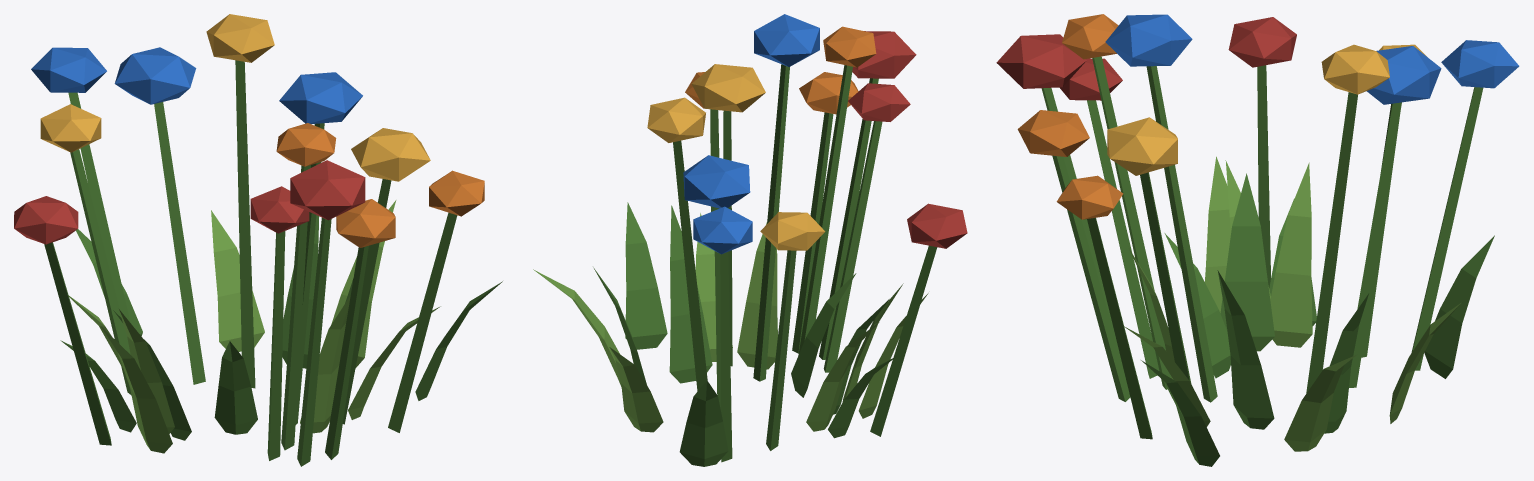
The picture shows the model from 3 angles, left to right: view 1: azimuth 30°, elevation 25°; view 2: azimuth 150°, elevation 25°; view 3: azimuth 270°, elevation 25°; orthographic projection. The views are drawn at different scales.
Visible parts, largest first — view 1: mdvl_nature_flowers_01_0; view 2: mdvl_nature_flowers_01_0; view 3: mdvl_nature_flowers_01_0.
Boxes of the visible parts, bbox=[...] form: mdvl_nature_flowers_01_0: bbox=[14, 14, 502, 466]; mdvl_nature_flowers_01_0: bbox=[533, 14, 967, 466]; mdvl_nature_flowers_01_0: bbox=[996, 14, 1519, 466].
Bounding box in the file's own units: 0.4432 × 0.3638 × 0.4529.
Materials: 1 (1 with a texture image).
